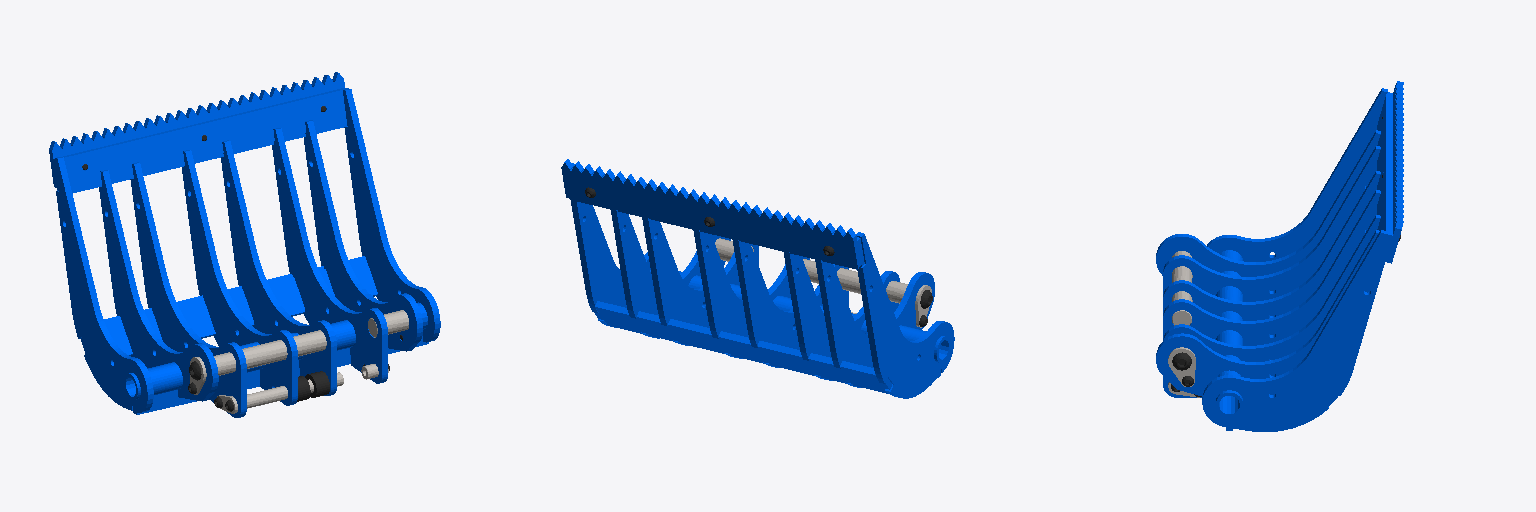
File: gripper_claw_2_Mesh.obj
The picture shows the model from 3 angles: view 1: azimuth 30°, elevation 25°; view 2: azimuth 150°, elevation 25°; view 3: azimuth 270°, elevation 25°; orthographic projection.
Size of the model in its own units: 0.101 by 0.0679 by 0.0721.